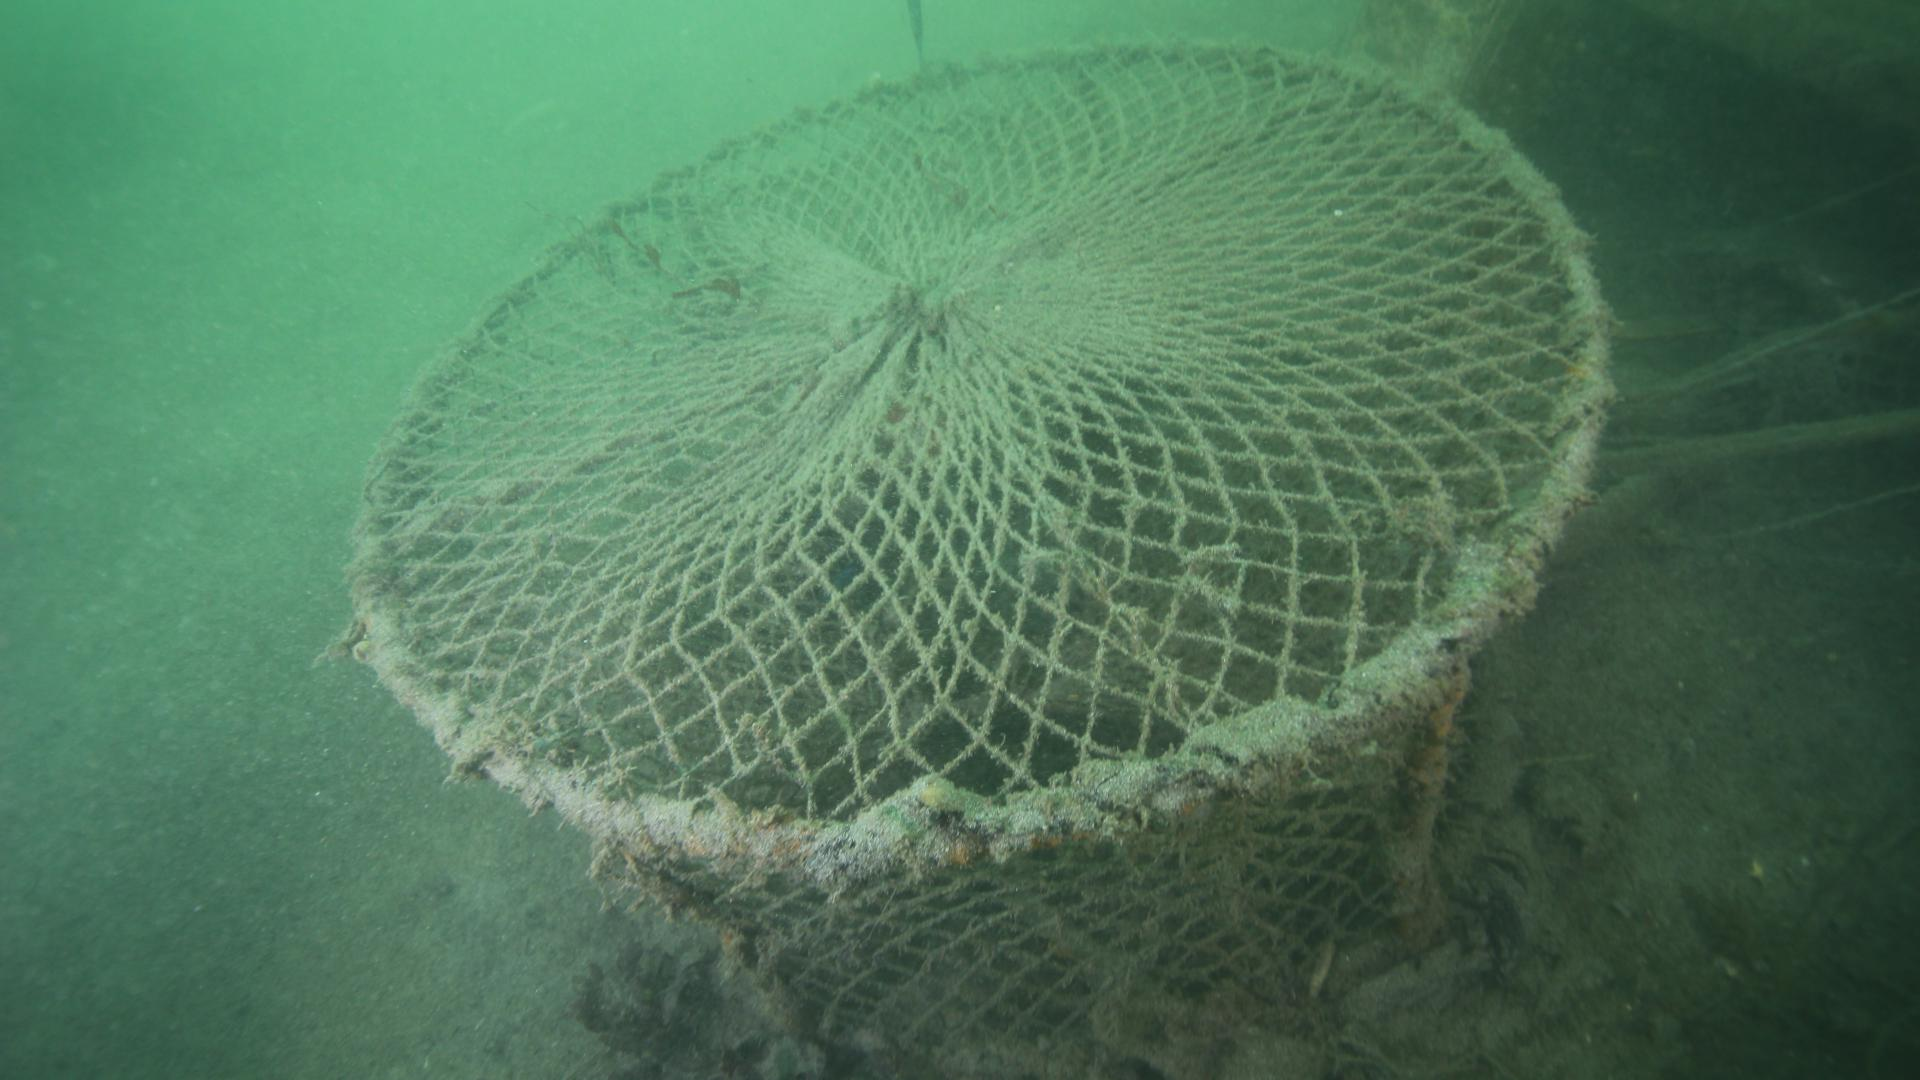circular fish trap: (344, 33, 1619, 1058)
